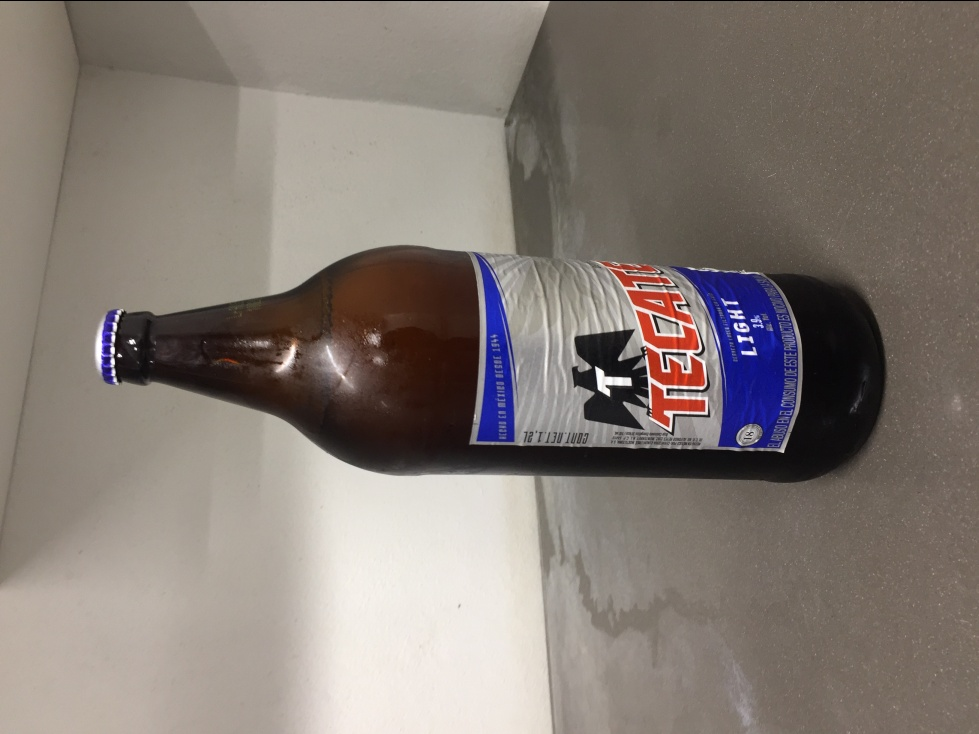tecateC: (96, 245, 891, 486)
